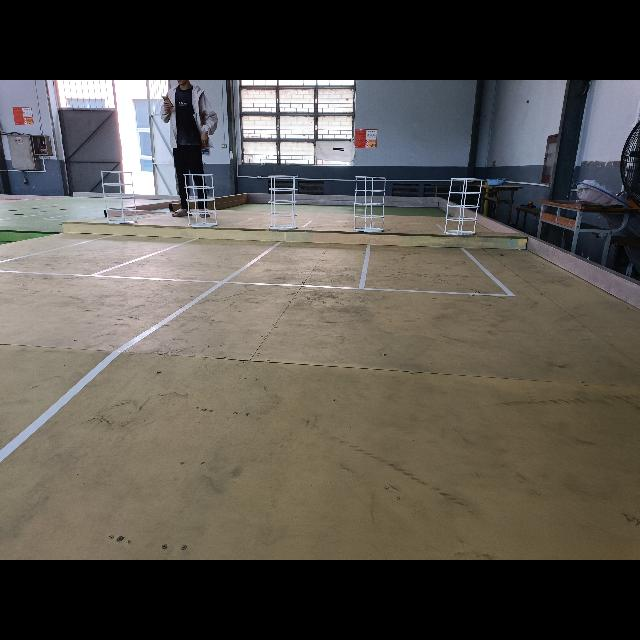S: (442, 178, 483, 236), (100, 169, 138, 225), (182, 174, 218, 228), (353, 176, 385, 234), (267, 175, 299, 231)
